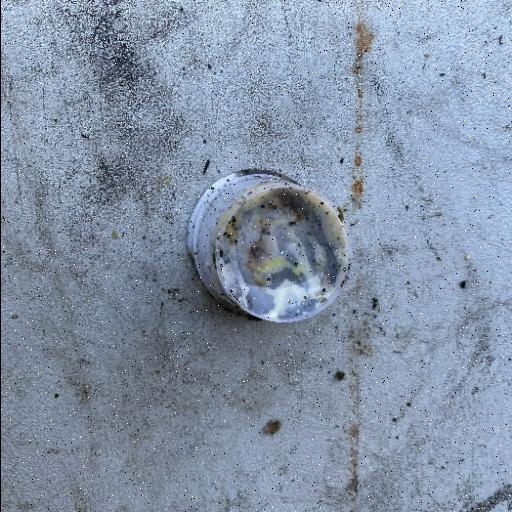Plastic: (184, 169, 352, 323)
